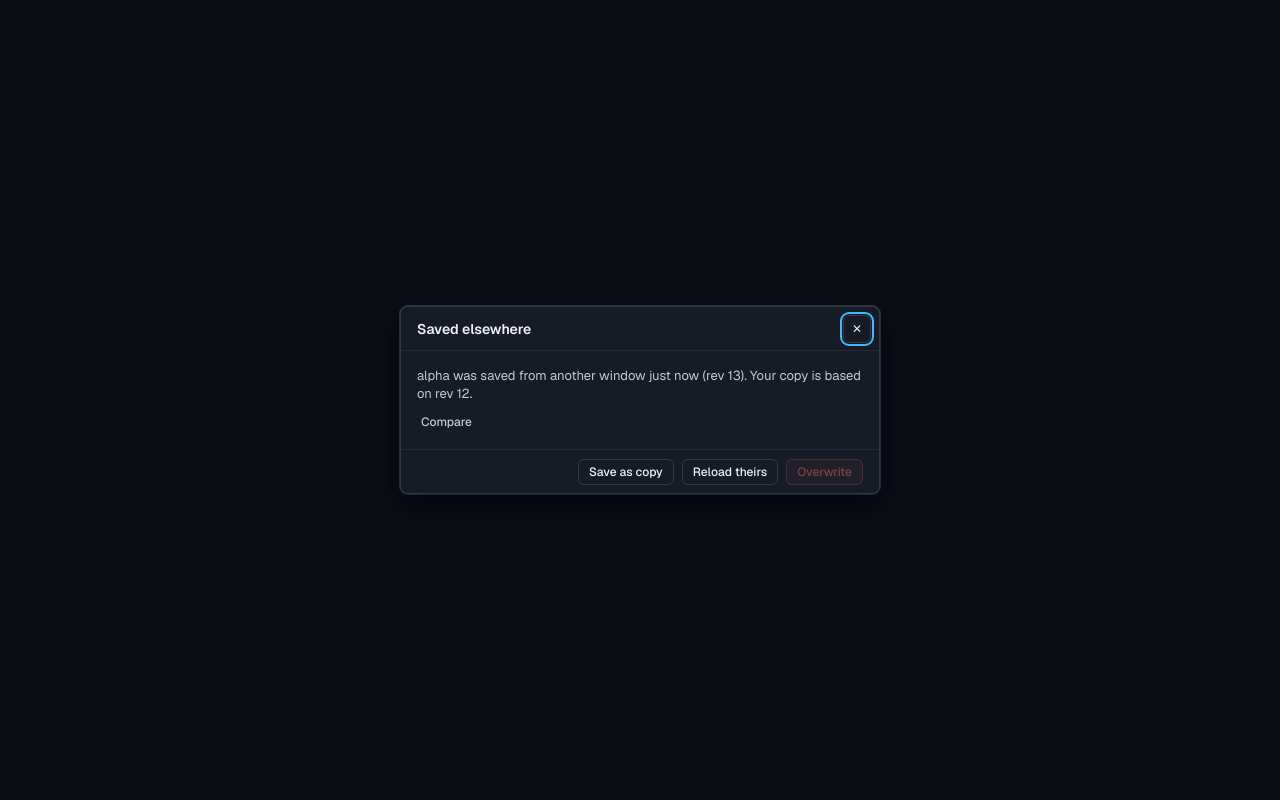
Test case: S04 save conflict › Cancel keeps the graph dirty, and the next Save re-opens the dialog without a PUT
Expected: the element with test id "nb-conflict-text" is shown, [417, 367, 863, 403]
Click the button with test id "nb-dialog-close". click: (857, 328)
box: [843, 314, 871, 342]
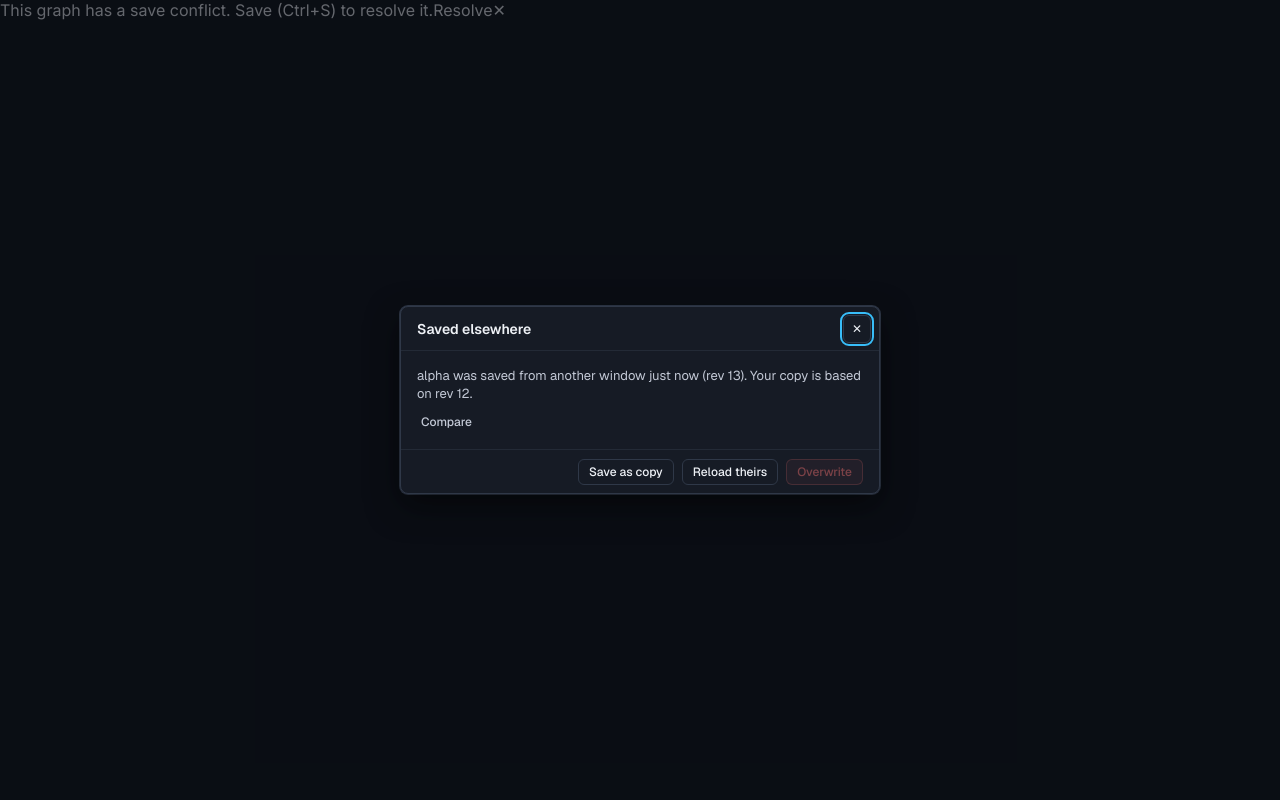
Expected: the heading "Saved elsewhere" is shown, [417, 320, 531, 338]
Now the message "This graph has a save conflict. Save (Ctrl+S) to resolve it. Resolve ✕" is shown, box [0, 0, 506, 20]
